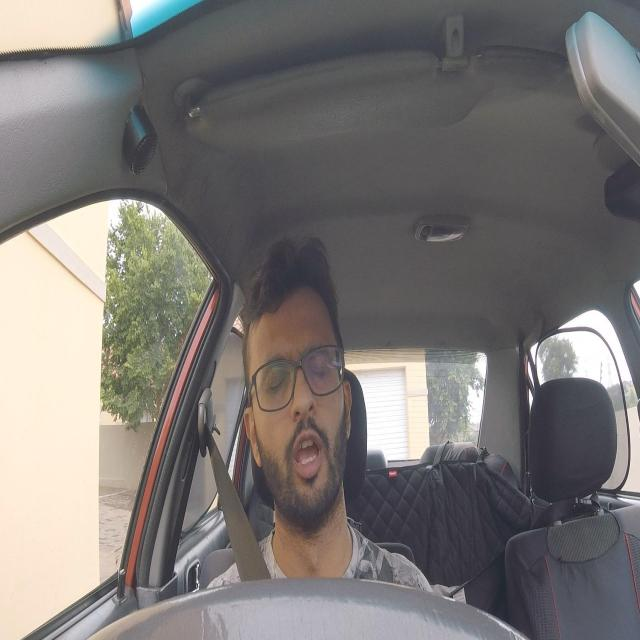close: (257, 353, 290, 402), (303, 342, 334, 386)
